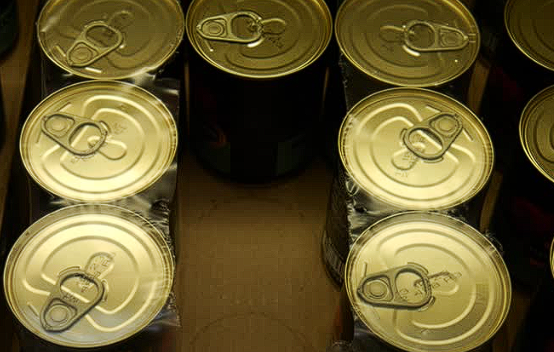Danificado: (344, 219, 497, 349)
Intacto: (7, 208, 175, 347), (22, 88, 181, 204), (353, 91, 498, 181), (28, 1, 180, 83), (336, 0, 481, 82), (194, 0, 332, 79)
